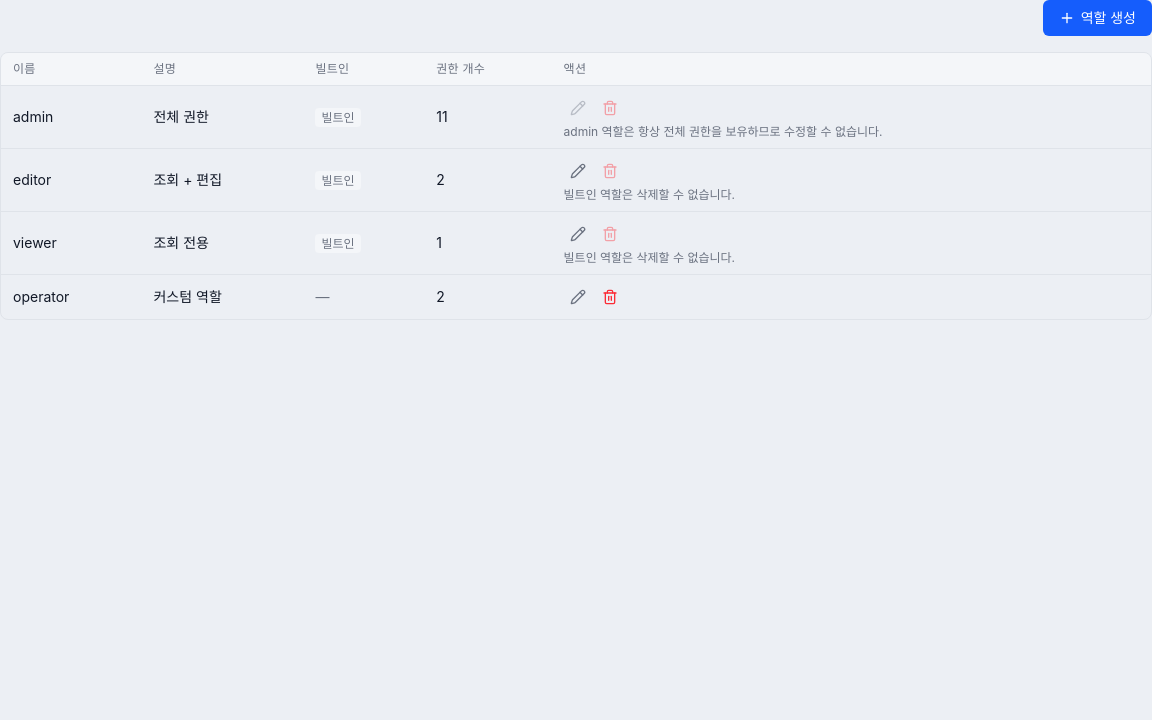
RolesPanel 빌트인 역할 보호 (AC-04, 서버 계약 기준) › 빌트인 역할을 편집하면 이름 입력이 잠긴다 — 서버가 이름 변경을 거부한다
The width and height of the screenshot is (1152, 720).
Expected: the row with test id "admin-role-row-operator" is shown, [1,274,1151,319]
Click the button named "수정 editor" at x=578, y=171, box [564,157,592,185]
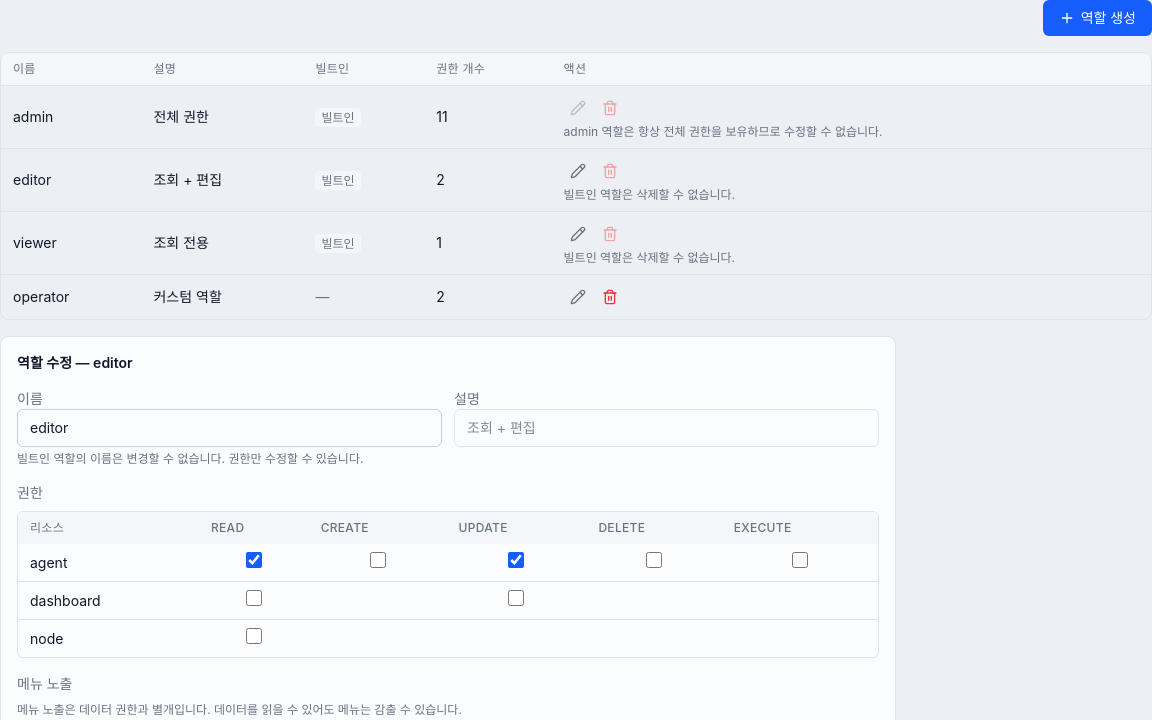
Expected: the text "빌트인 역할의 이름은 변경할 수 없습니다. 권한만 수정할 수 있습니다." is shown, [17,451,363,466]
